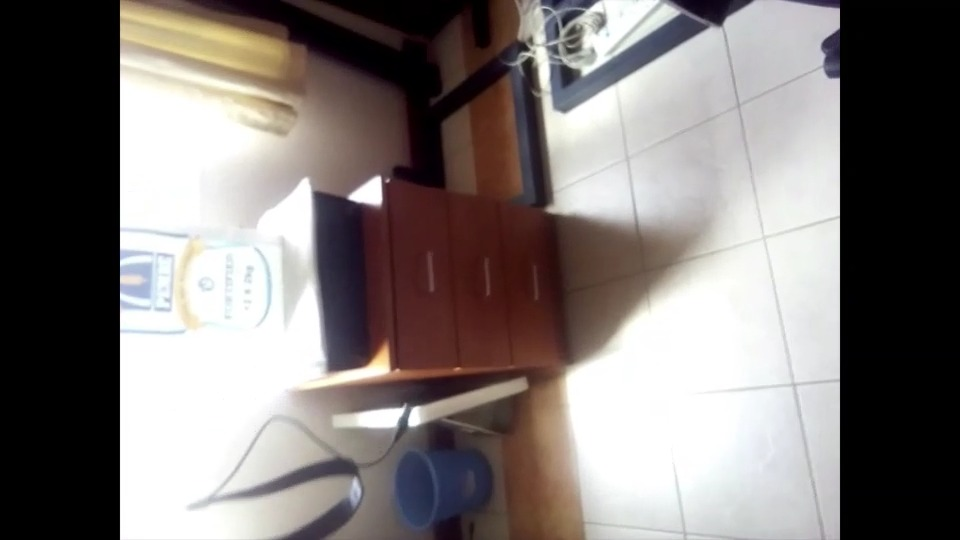wheat_flour_blue_label: (122, 224, 286, 350)
